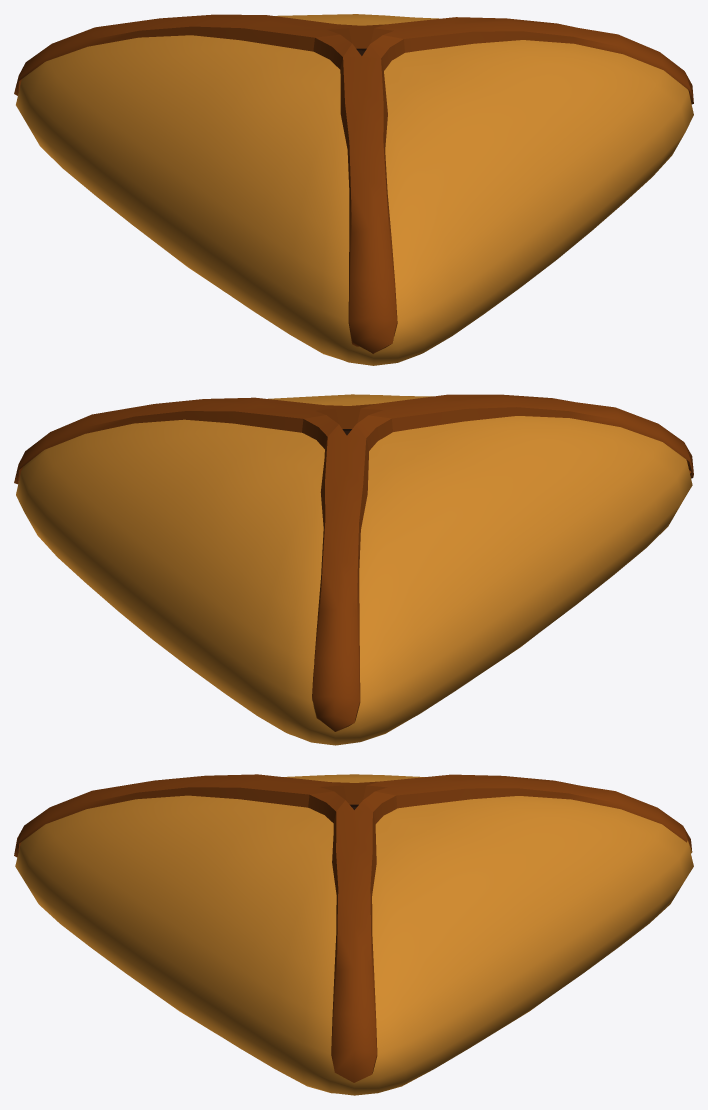
The model's file is src_assets_3dobjects_itpark_.obj.
3 views of the same model, one above another, from view 1: azimuth 30°, elevation 25°; view 2: azimuth 150°, elevation 25°; view 3: azimuth 270°, elevation 25° (orthographic). The views are drawn at different scales.
Parts seen in each view (by area): view 1: Cube_Cube.001; view 2: Cube_Cube.001; view 3: Cube_Cube.001.
Boxes of the visible parts, x1=… form: Cube_Cube.001: x1=14, y1=14, x2=693, y2=365; Cube_Cube.001: x1=14, y1=394, x2=693, y2=745; Cube_Cube.001: x1=14, y1=774, x2=693, y2=1095.
Size of the model in its own units: 1.25 by 0.4896 by 1.48.
